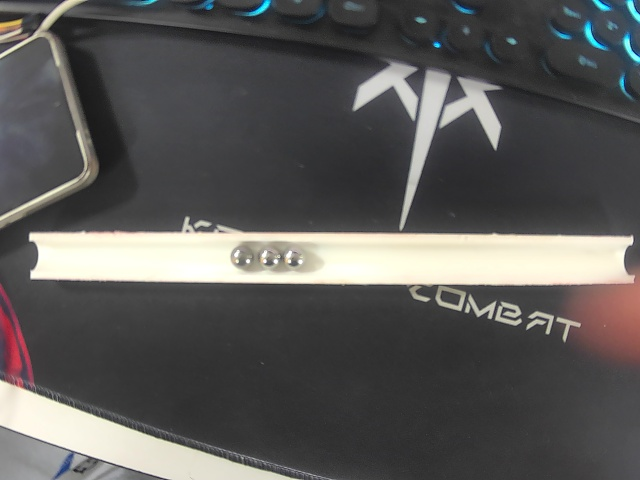steelball: (230, 244, 255, 269), (283, 247, 306, 270), (258, 246, 282, 268)
